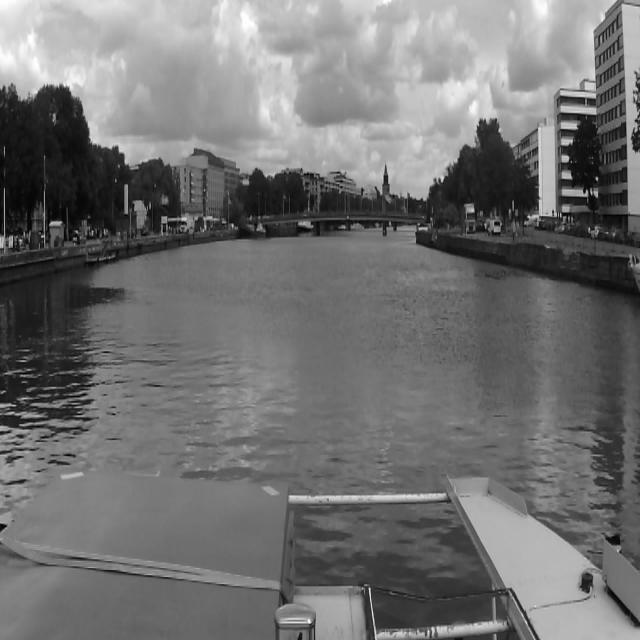ship: (238, 222, 254, 239), (255, 223, 266, 238)
